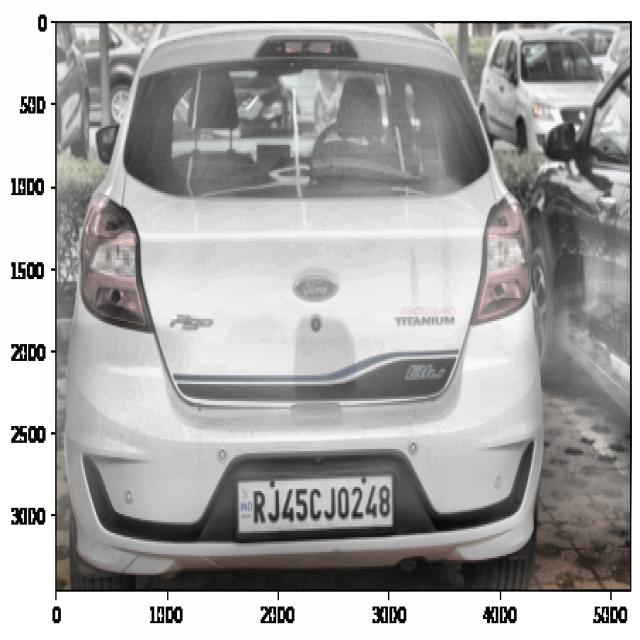license_plate: (248, 478, 394, 528)
